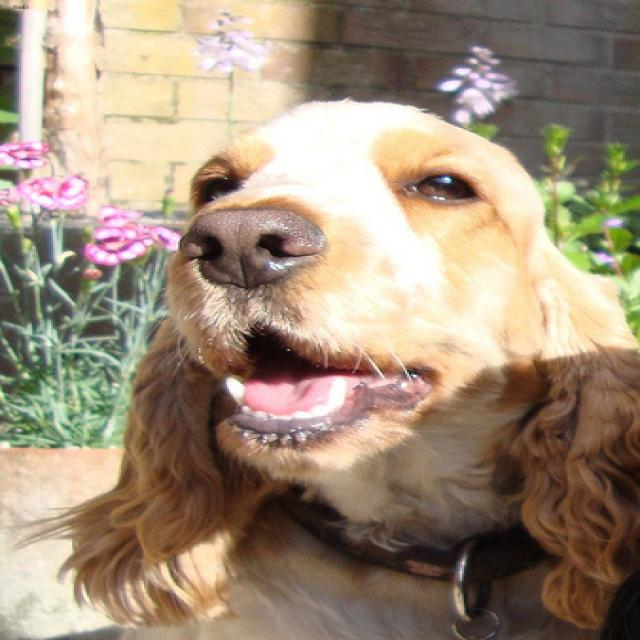dog-english_cocker_spaniel: (2, 84, 636, 637)
